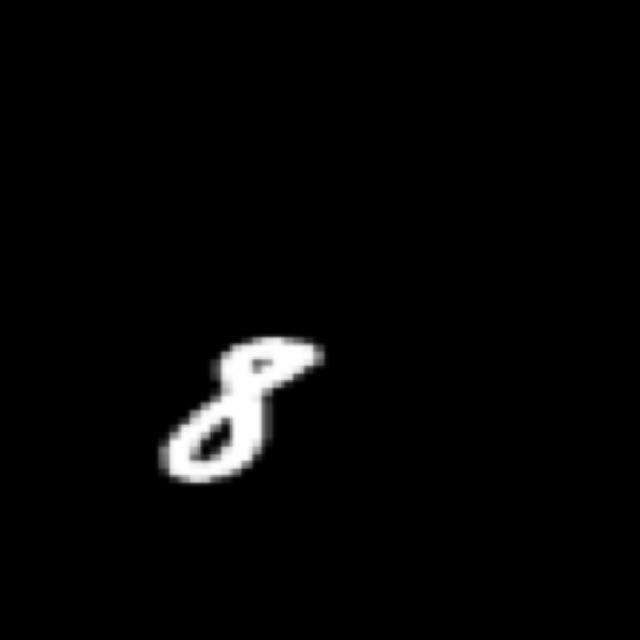eight -8-: (153, 328, 328, 485)
